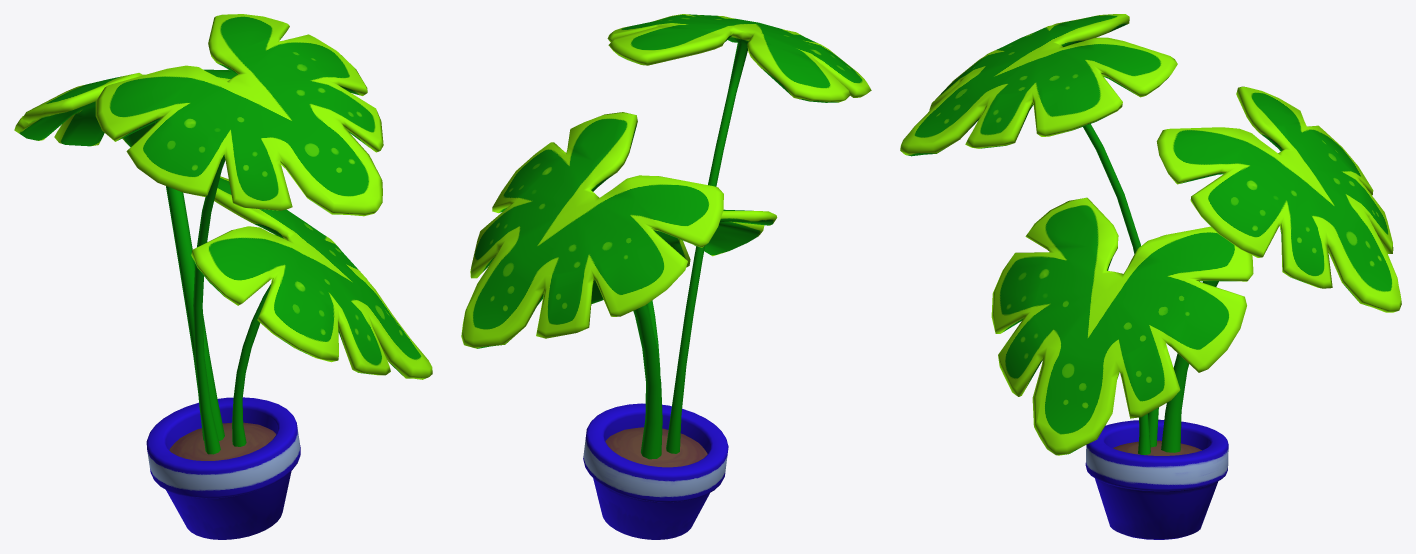
File: PRP_Plant.fbx
3 renders of one model, left to right at view 1: azimuth 30°, elevation 25°; view 2: azimuth 150°, elevation 25°; view 3: azimuth 270°, elevation 25°, orthographic. The views are drawn at different scales.
Visible parts, largest first — view 1: Circle.002; view 2: Circle.002; view 3: Circle.002.
Boxes of the visible parts, box(x1,y1,x2,y2) form: Circle.002: box(14, 14, 432, 539); Circle.002: box(461, 14, 871, 539); Circle.002: box(900, 14, 1401, 539).
Size of the model in its own units: 479 by 730 by 700.
Materials: 2 (2 with a texture image).
